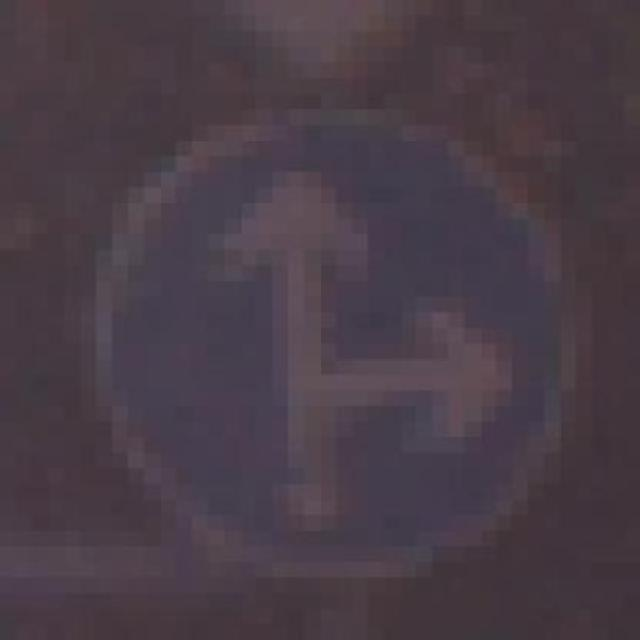Go Straight or Turn Right: (64, 108, 591, 578)
